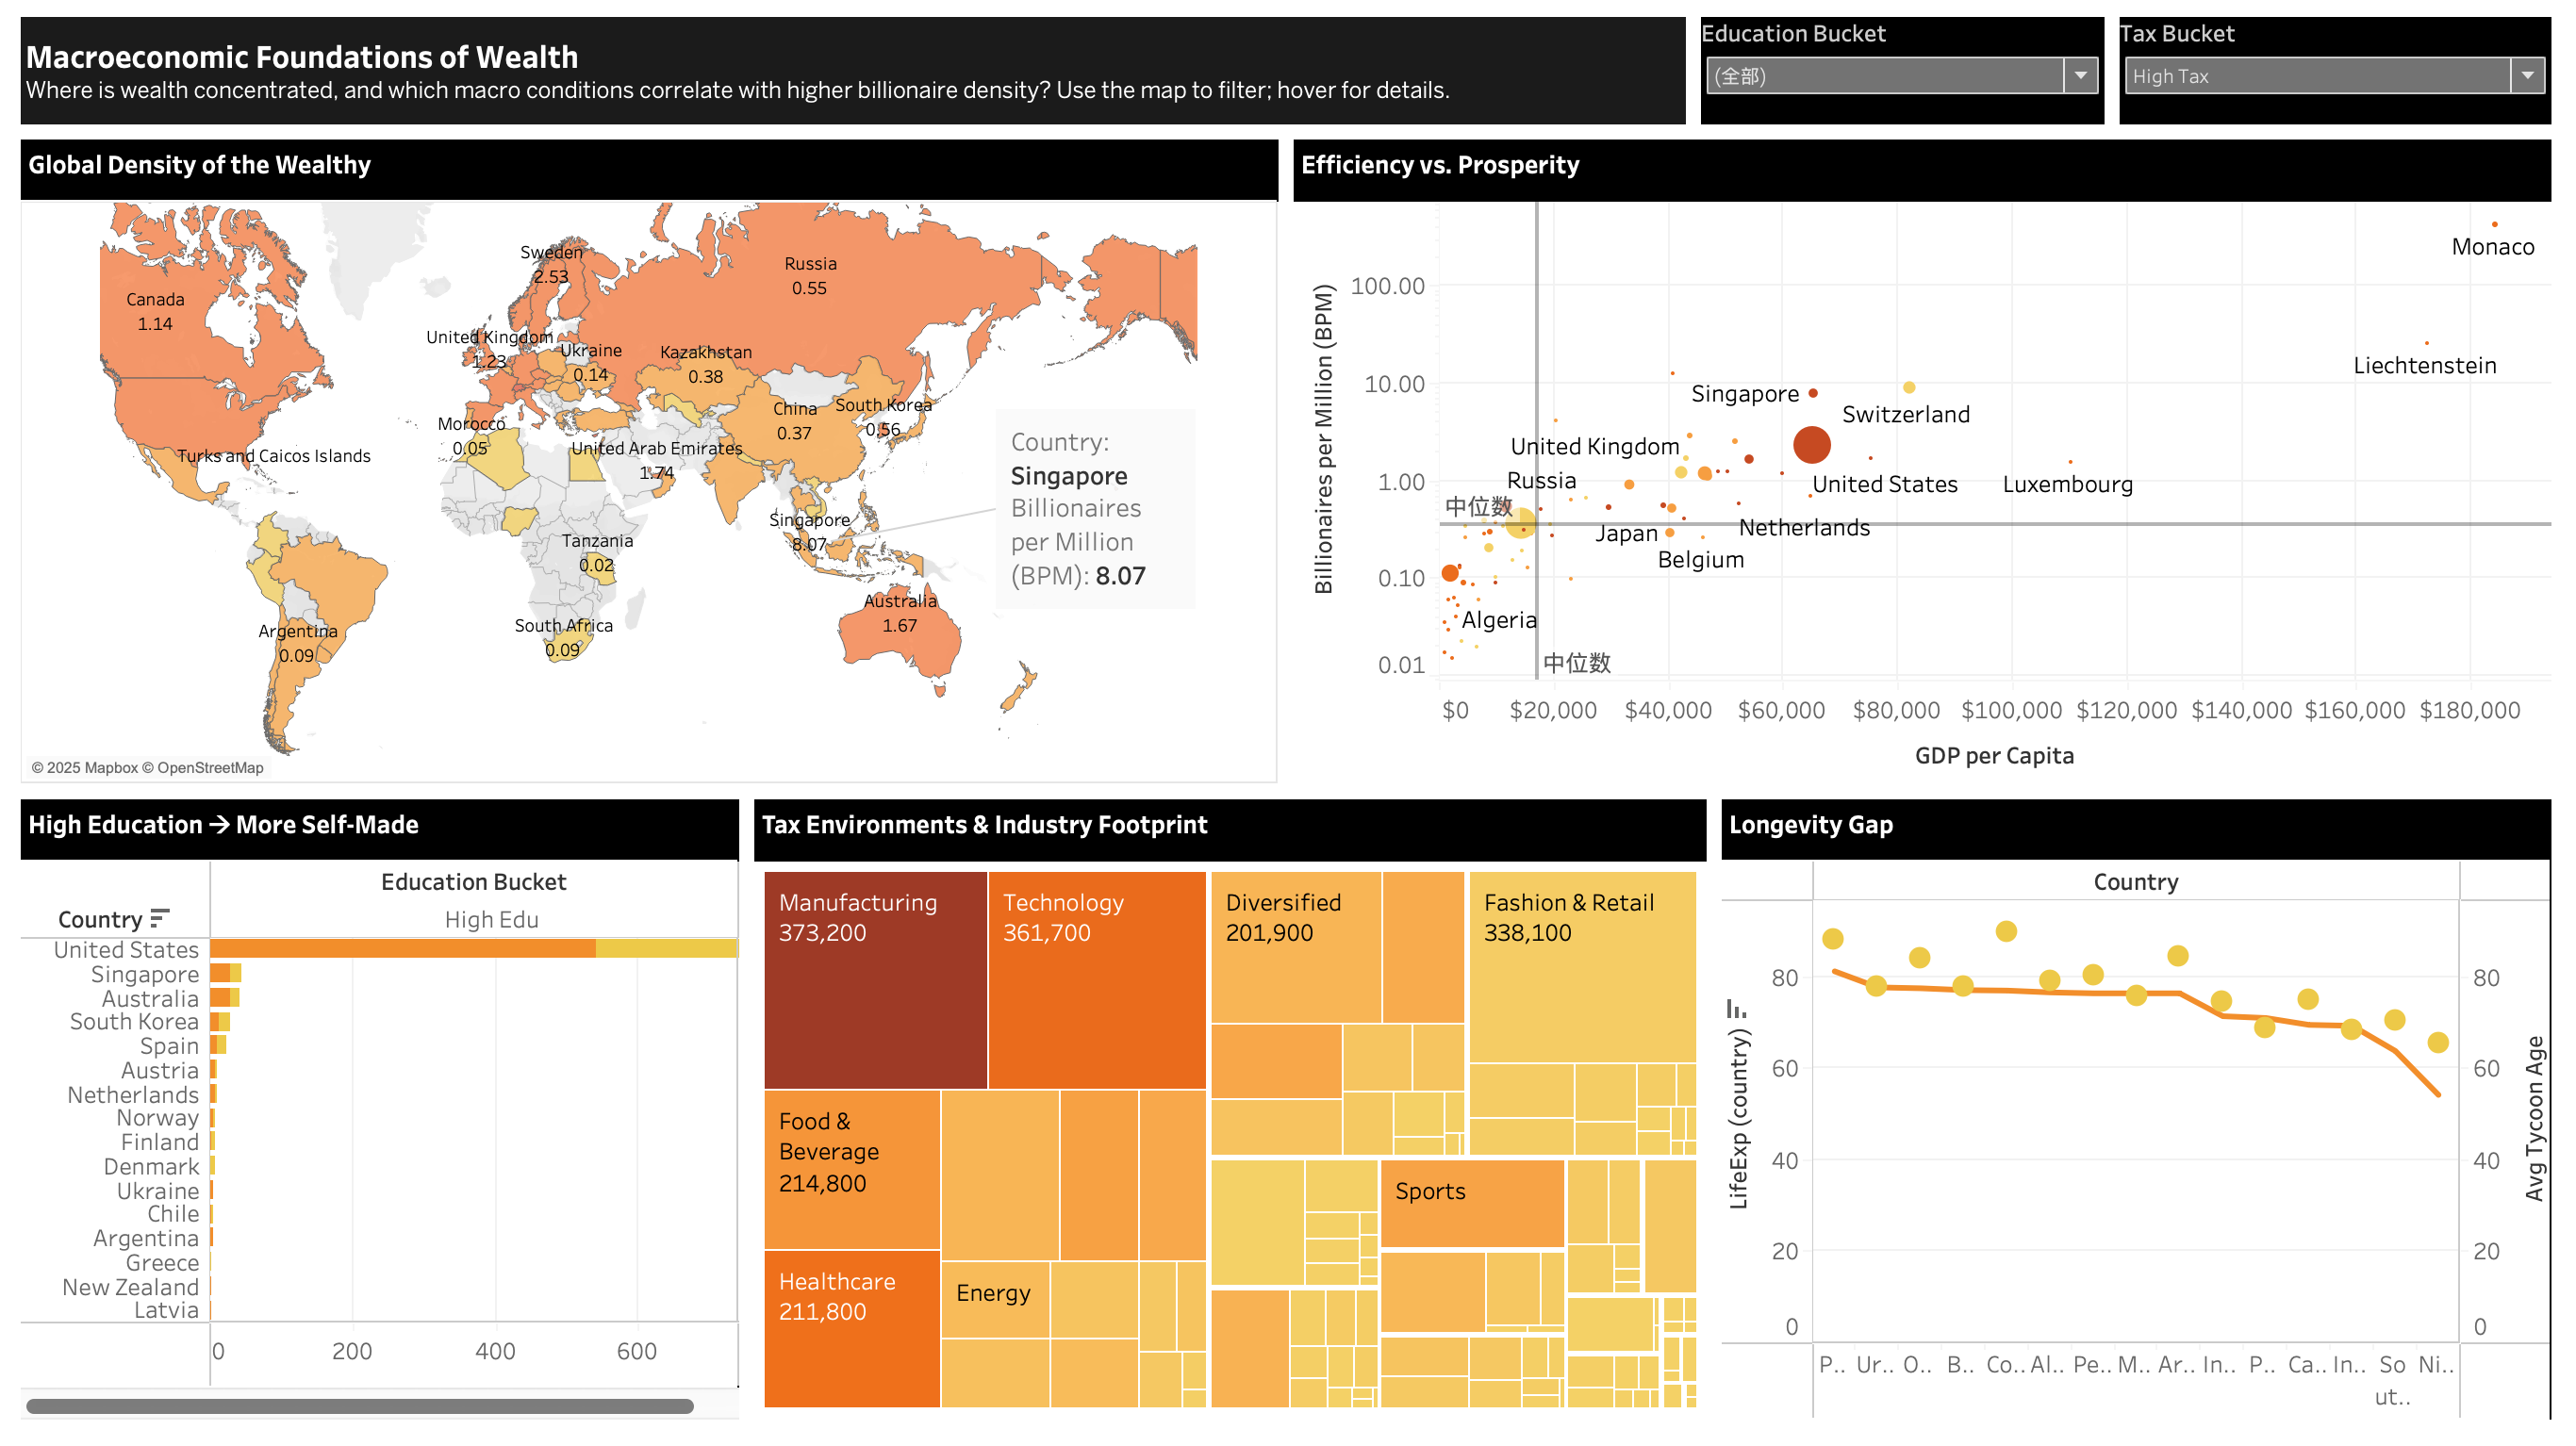

This screenshot's page, from the dashboard's own definition file:
{"tool":"tableau","page":{"name":"仪表板 1","canvas":[1366,768],"ordinal":0},"visuals":[{"type":"text","box":[8,8,890.5,65]},{"type":"filter","title":"GDPpc × BPM","param":"[federated.1m5r4vp1u8b5fr0zkdhua1nk04jb].[usr:Calculation_6921188270146068494:nk","box":[899,8,222,65]},{"type":"filter","title":"Tax","param":"[federated.1m5r4vp1u8b5fr0zkdhua1nk04jb].[usr:Calculation_6921188270157074448:nk","box":[1121,8,237,65]},{"type":"worksheet","title":"Density of the Wealthy","mark":"Automatic","box":[8,73,675,350]},{"type":"worksheet","title":"GDPpc × BPM","mark":"Circle","rows":["Calculation_6921188270123933700"],"cols":["Calculation_6921188270123700226"],"box":[683,73,675,350]},{"type":"worksheet","title":"Education","mark":"Automatic","rows":["country"],"cols":["Calculation_6921188270146068494","personName"],"box":[8,423,389,337]},{"type":"worksheet","title":"Tax","mark":"Automatic","box":[397,423,513,337]},{"type":"worksheet","title":"LifeExp","mark":"Automatic","rows":["Calculation_6921188270180724753","Calculation_6921188270180802578"],"cols":["country"],"box":[910,423,448,337]}]}

Visuals, with their boxes in screenshot pixels (x1, y1, x2, y2), scaled from the page's 1366x768 canvas onto the 2576x1446 screenshot:
text: 15 15 1694 138
"GDPpc × BPM" filter: 1695 15 2114 138
"Tax" filter: 2114 15 2561 138
"Density of the Wealthy" worksheet: 15 138 1288 797
"GDPpc × BPM" worksheet (Circle marks): 1288 138 2561 797
"Education" worksheet: 15 797 749 1431
"Tax" worksheet: 749 797 1716 1431
"LifeExp" worksheet: 1716 797 2561 1431
